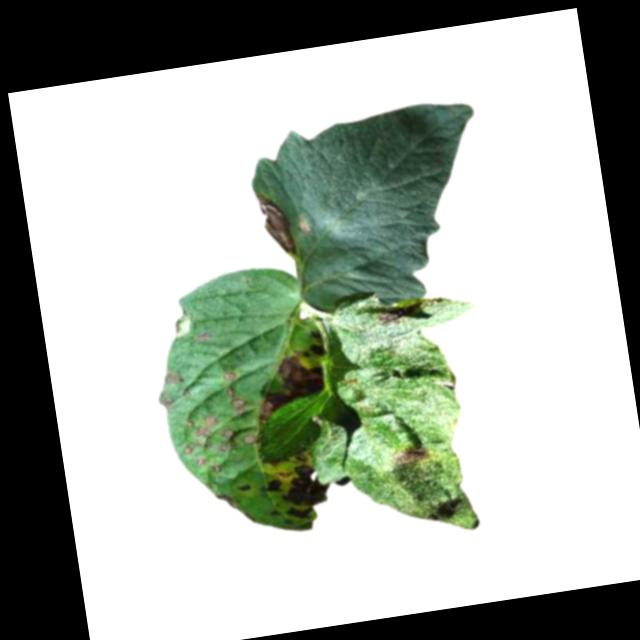Early_blight: (248, 338, 335, 422), (267, 459, 336, 523), (254, 189, 301, 260), (222, 368, 249, 423), (388, 443, 432, 469), (190, 412, 218, 439), (214, 429, 237, 454), (374, 306, 400, 325), (233, 478, 253, 494), (239, 433, 258, 447)
